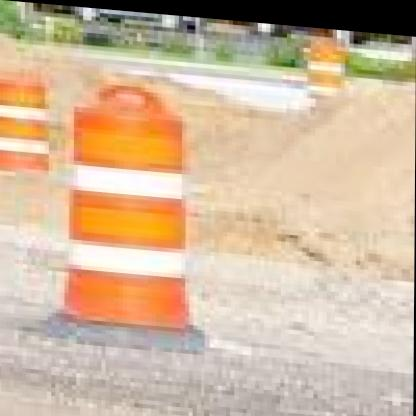obstacle: (56, 75, 212, 339)
